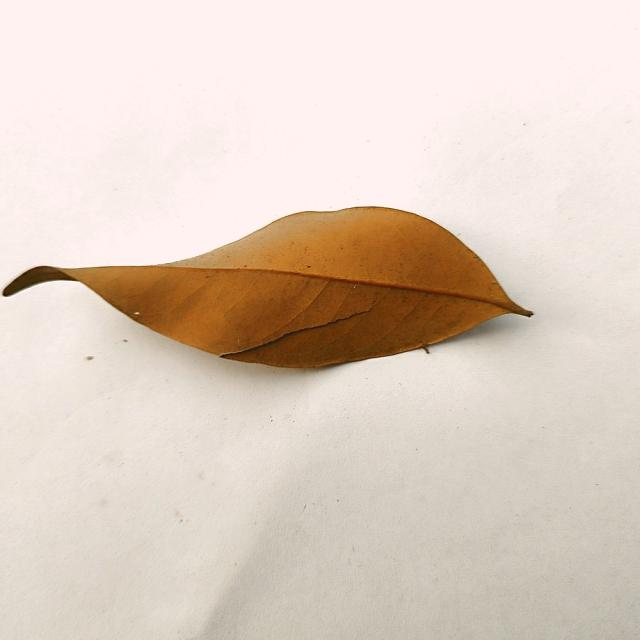Dry_Leaf-Lychee: (3, 206, 534, 374)
